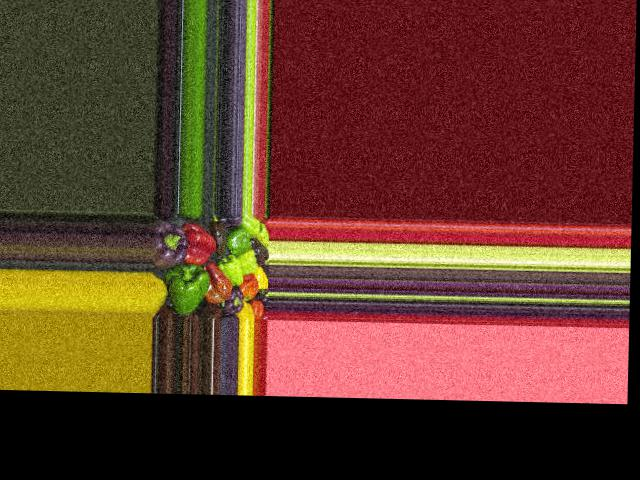bell_pepper: (222, 288, 248, 317)
